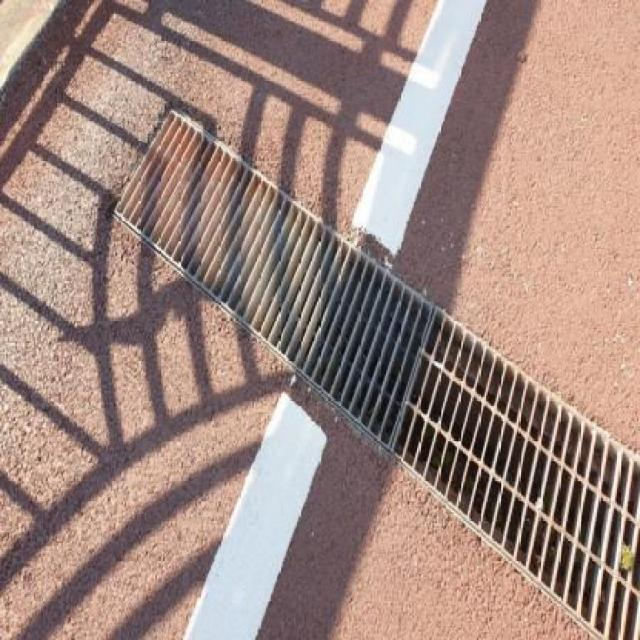Drain Hole: (109, 120, 640, 620)
